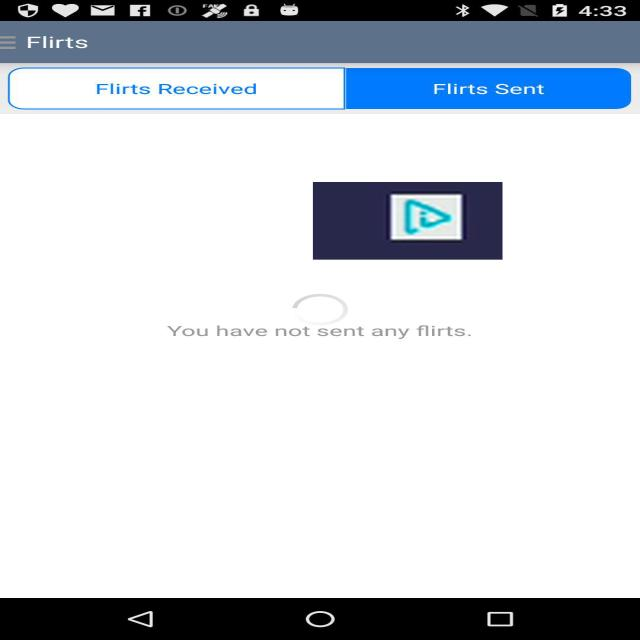sneaking: (313, 182, 502, 260)
